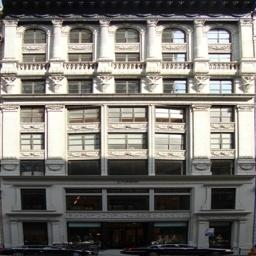building: (2, 0, 252, 246)
